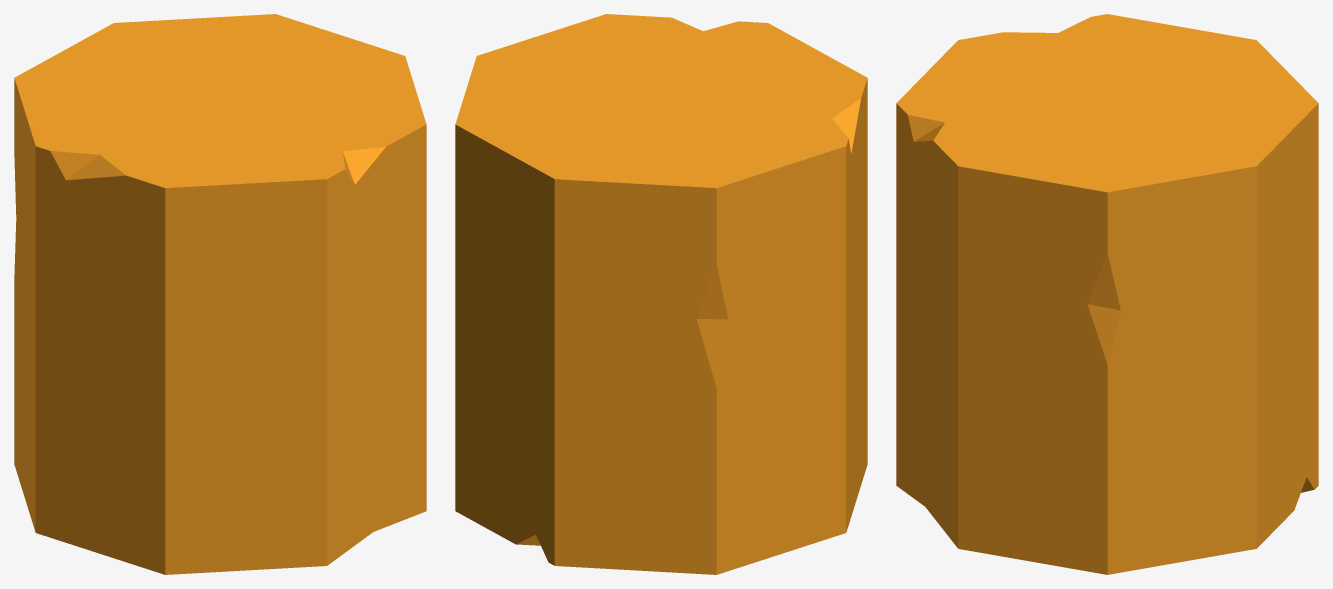
File: SM_Primitive_Cylander_01P.fbx
The picture shows the model from 3 angles, left to right: view 1: azimuth 30°, elevation 25°; view 2: azimuth 150°, elevation 25°; view 3: azimuth 270°, elevation 25°; orthographic projection.
Visible parts, largest first — view 1: SM_Primitive_Cylander_01P; view 2: SM_Primitive_Cylander_01P; view 3: SM_Primitive_Cylander_01P.
Boxes of the visible parts, bbox=[...] form: SM_Primitive_Cylander_01P: bbox=[14, 14, 426, 574]; SM_Primitive_Cylander_01P: bbox=[455, 14, 867, 574]; SM_Primitive_Cylander_01P: bbox=[896, 14, 1318, 574].
Bounding box in the file's own units: 100 × 100 × 100.
